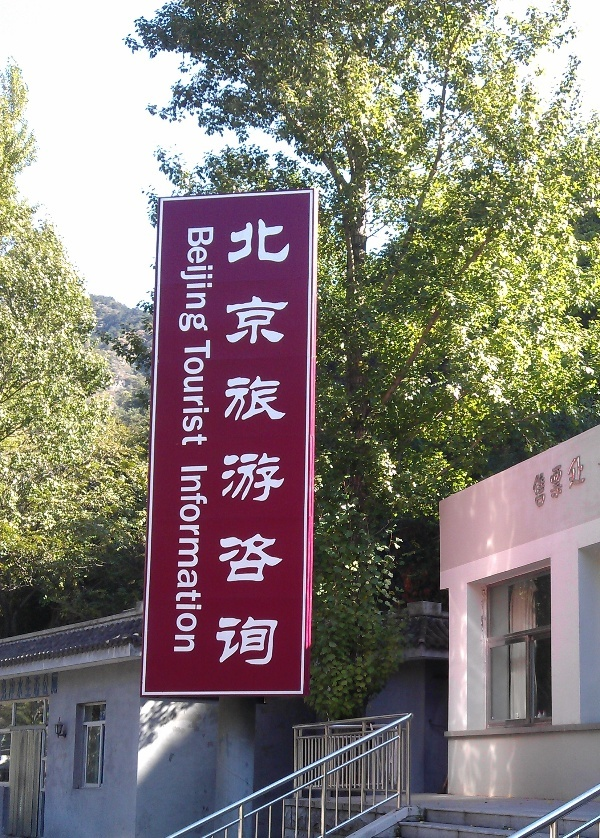text: (241, 217, 256, 667), (257, 217, 272, 667), (273, 217, 288, 667), (229, 217, 240, 667), (193, 465, 208, 653), (180, 465, 192, 653), (289, 217, 293, 667), (193, 339, 208, 448), (193, 225, 208, 333), (181, 225, 192, 333), (183, 339, 192, 448), (545, 451, 560, 512), (561, 451, 576, 512), (531, 451, 544, 512), (577, 451, 588, 512), (209, 225, 215, 333), (1, 671, 16, 702), (17, 671, 32, 702), (33, 671, 48, 702), (49, 671, 61, 702), (209, 339, 212, 448), (209, 465, 210, 653)
